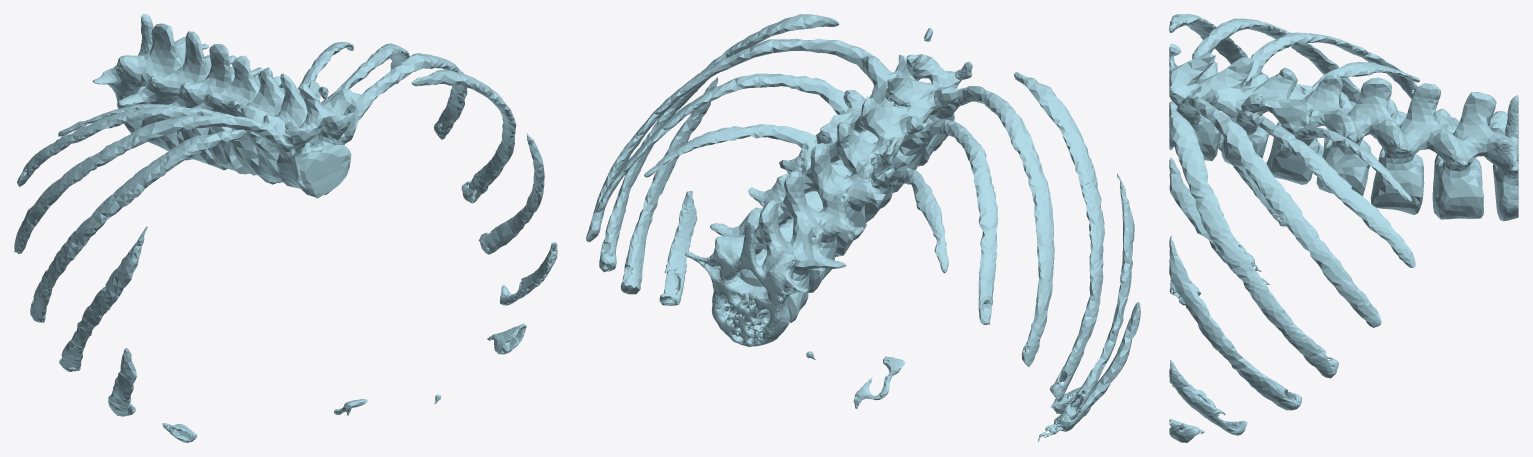
File: bone.obj
3 renders of one model, left to right at view 1: azimuth 30°, elevation 25°; view 2: azimuth 150°, elevation 25°; view 3: azimuth 270°, elevation 25°, orthographic. The views are drawn at different scales.
Parts seen in each view (by area): view 1: grp1; view 2: grp1; view 3: grp1.
Boxes of the visible parts, x1,y1,x2,y2 form: grp1: (14,14,557,442); grp1: (586,14,1140,442); grp1: (1169,14,1518,442).
Bounding box in the file's own units: 289 × 216 × 195.
